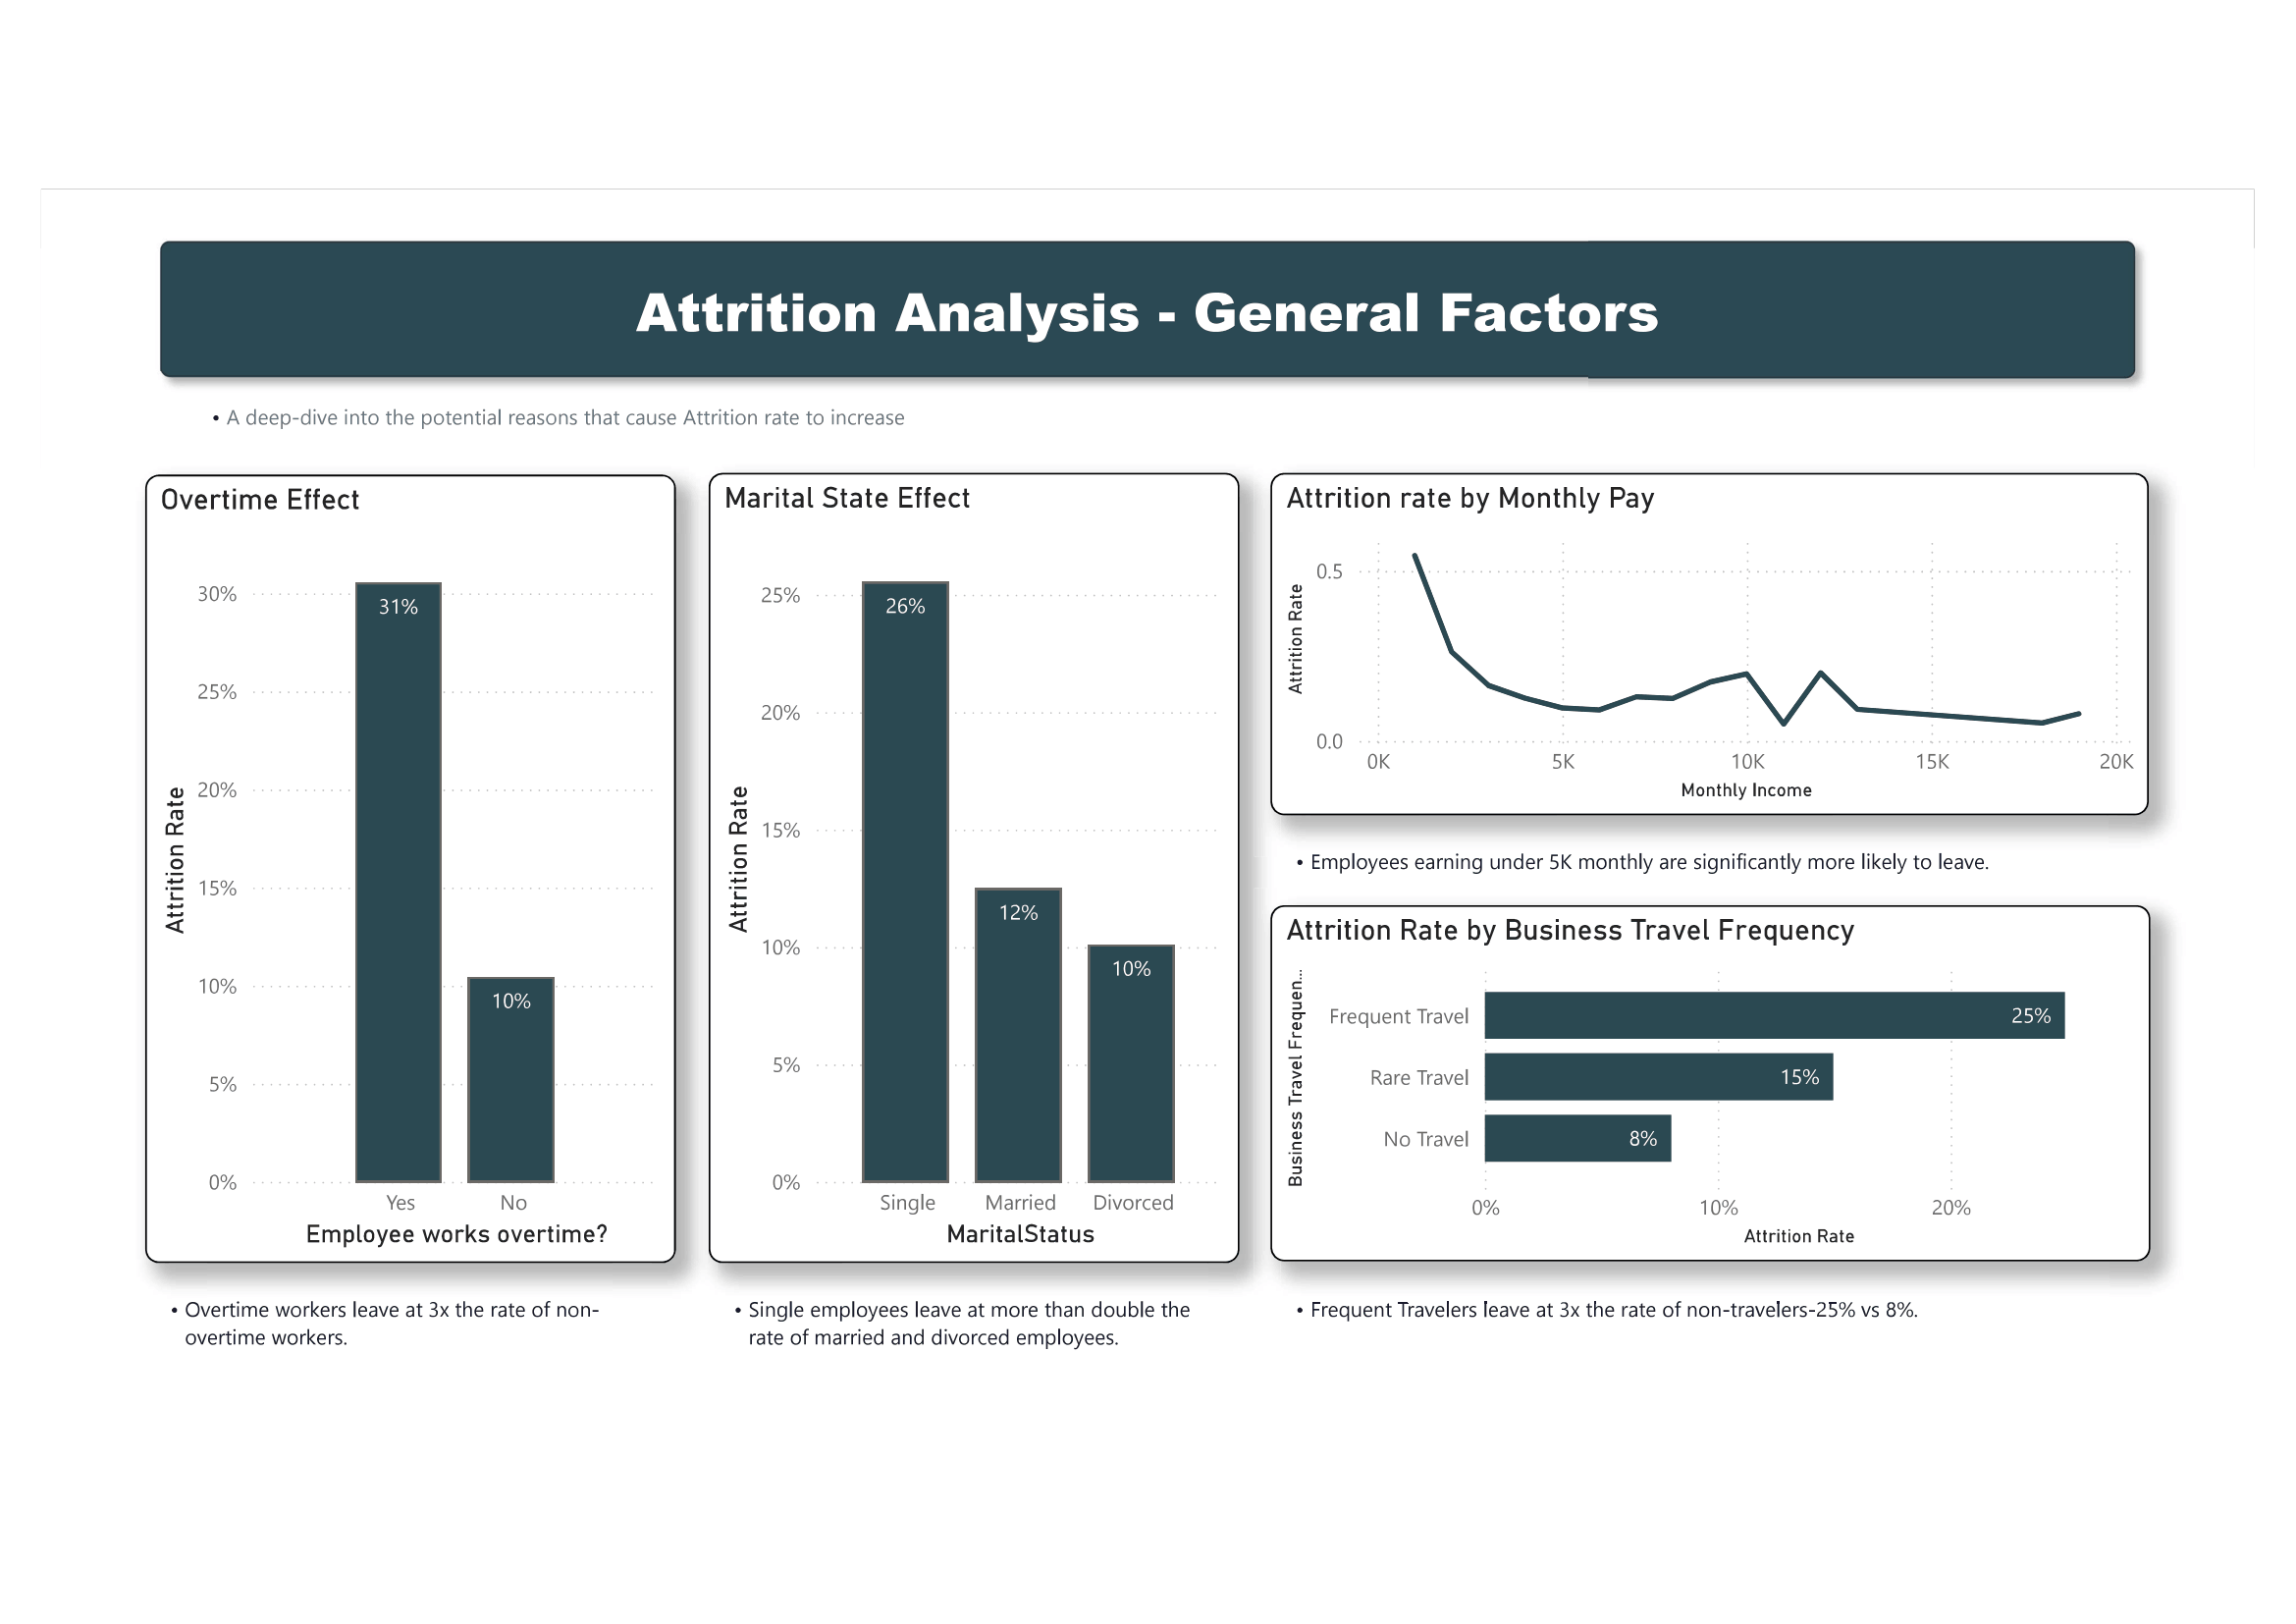

This screenshot's page, from the dashboard's own definition file:
{"tool":"powerbi","page":{"name":"Attrition Analysis","canvas":[1280,720],"ordinal":2},"visuals":[{"type":"shape","box":[60,20.6,1160,97.3],"z":0},{"type":"textbox","box":[84,118,565,46],"z":1000},{"type":"columnChart","title":"Marital State Effect","fields":{"Y":["_measures.Attrition Rate"],"Category":["dataset.MaritalStatus"]},"box":[386,164.3,307,457.2],"z":2000,"group":"g2"},{"type":"group","id":"g1","title":"Group 1","box":[60.1,165.2,307,549.7],"z":2000},{"type":"columnChart","title":"Overtime Effect","fields":{"Category":["dataset.OverTime"],"Y":["_measures.Attrition Rate"]},"box":[60.1,165.2,307,456.5],"z":2000,"group":"g1"},{"type":"group","id":"g2","title":"Group 1","box":[386,164.3,307,550.6],"z":3000},{"type":"textbox","box":[386,634,307,80.9],"z":3000,"group":"g2"},{"type":"textbox","box":[711.4,634,508.4,80.8],"z":3000},{"type":"textbox","box":[60.1,634.2,307,80.8],"z":3000,"group":"g1"},{"type":"group","id":"g3","title":"Group 3","box":[711.4,164.5,508.4,262.2],"z":4000},{"type":"lineChart","title":"Attrition rate by Monthly Pay","fields":{"Category":["dataset.MonthlyIncome (bins)"],"Y":["_measures.Attrition Rate"]},"box":[711.4,164.5,508.4,197.7],"z":4000,"group":"g3"},{"type":"clusteredBarChart","fields":{"Y":["_measures.Attrition Rate"],"Category":["dataset.BusinessTravel"]},"box":[711.4,414.4,508.4,205.8],"z":4001},{"type":"textbox","box":[711.4,375,508.4,51.7],"z":5000,"group":"g3"}]}

Visuals, with their boxes on the page's 1280x720 design canvas (x1, y1, x2, y2). These are canvas units, not pixel positions in the 2296x1624 screenshot, which may show the page scaled, cropped or inside an application window:
shape: <region>60, 21, 1220, 118</region>
textbox: <region>84, 118, 649, 164</region>
"Marital State Effect" columnChart: <region>386, 164, 693, 622</region>
"Group 1" group: <region>60, 165, 367, 715</region>
"Overtime Effect" columnChart: <region>60, 165, 367, 622</region>
"Group 1" group: <region>386, 164, 693, 715</region>
textbox: <region>386, 634, 693, 715</region>
textbox: <region>711, 634, 1220, 715</region>
textbox: <region>60, 634, 367, 715</region>
"Group 3" group: <region>711, 164, 1220, 427</region>
"Attrition rate by Monthly Pay" lineChart: <region>711, 164, 1220, 362</region>
clusteredBarChart - _measures.Attrition Rate x dataset.BusinessTravel: <region>711, 414, 1220, 620</region>
textbox: <region>711, 375, 1220, 427</region>
